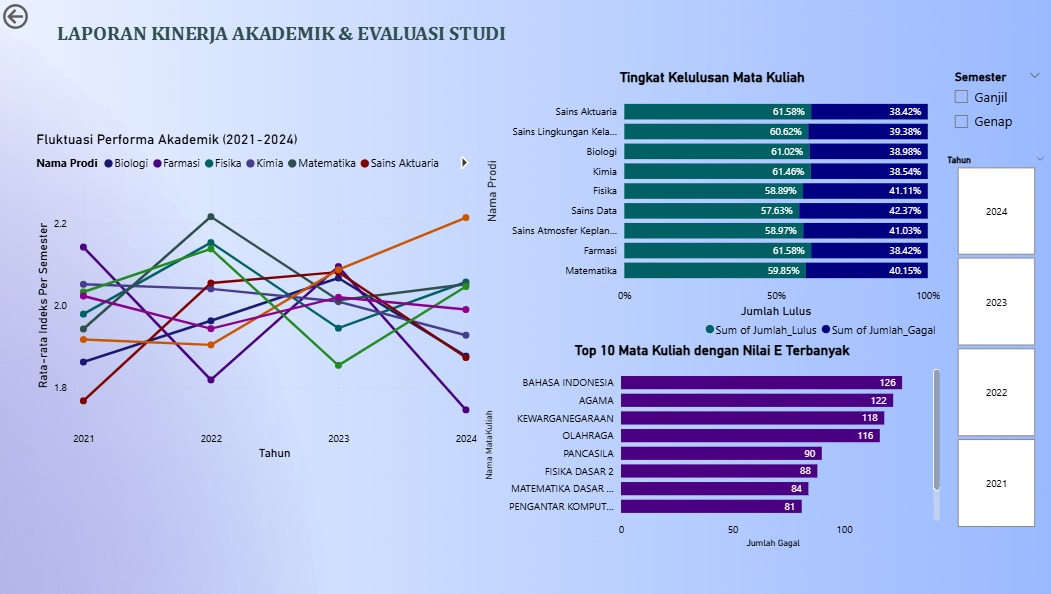

What the dashboard file says about the page in this screenshot:
{"tool":"powerbi","page":{"name":"Page 2","canvas":[1280,720],"ordinal":1},"visuals":[{"type":"slicer","fields":{"Values":["Dim_Waktu.Semester"]},"box":[1145.5,80,129.1,92.7],"z":0},{"type":"hundredPercentStackedBarChart","title":"Tingkat Kelulusan Mata Kuliah ","fields":{"Y":["Sum(vw_Course_Failure_Analysis.Jumlah_Lulus)","Sum(vw_Course_Failure_Analysis.Jumlah_Gagal)"],"Category":["vw_Course_Failure_Analysis.Nama_Prodi"]},"box":[583.6,83.6,561.8,334.5],"z":1000},{"type":"actionButton","box":[0,0,100,40],"z":2000},{"type":"clusteredBarChart","title":"Top 10 Mata Kuliah dengan Nilai E Terbanyak","fields":{"Category":["vw_Course_Failure_Analysis.Nama_MK"],"Y":["Sum(vw_Course_Failure_Analysis.Jumlah_Gagal)"]},"box":[583.6,414.5,561.8,254.5],"z":3000},{"type":"slicer","fields":{"Values":["Dim_Waktu.Tahun"]},"box":[1136.4,181.8,143.6,463.6],"z":4000},{"type":"textbox","box":[65.5,20,767.3,63.6],"z":5000},{"type":"lineChart","title":"Fluktuasi Performa Akademik (2021-2024)","fields":{"Category":["Dim_Waktu.Tahun"],"Y":["Avg(vw_Student_Performance.IPS_Semester)"],"Series":["vw_Student_Performance.Nama_Prodi"]},"box":[39.8,143.2,544,431.1],"z":6000}]}

Visuals, with their boxes in screenshot pixels (x1, y1, x2, y2), scaled from the page's 1280x720 canvas onto the 1051x594 screenshot:
slicer - Dim_Waktu.Semester: locate(941, 66, 1047, 142)
"Tingkat Kelulusan Mata Kuliah " hundredPercentStackedBarChart: locate(479, 69, 940, 345)
actionButton: locate(0, 0, 82, 33)
"Top 10 Mata Kuliah dengan Nilai E Terbanyak" clusteredBarChart: locate(479, 342, 940, 552)
slicer - Dim_Waktu.Tahun: locate(933, 150, 1050, 532)
textbox: locate(54, 16, 684, 69)
"Fluktuasi Performa Akademik (2021-2024)" lineChart: locate(33, 118, 479, 474)
